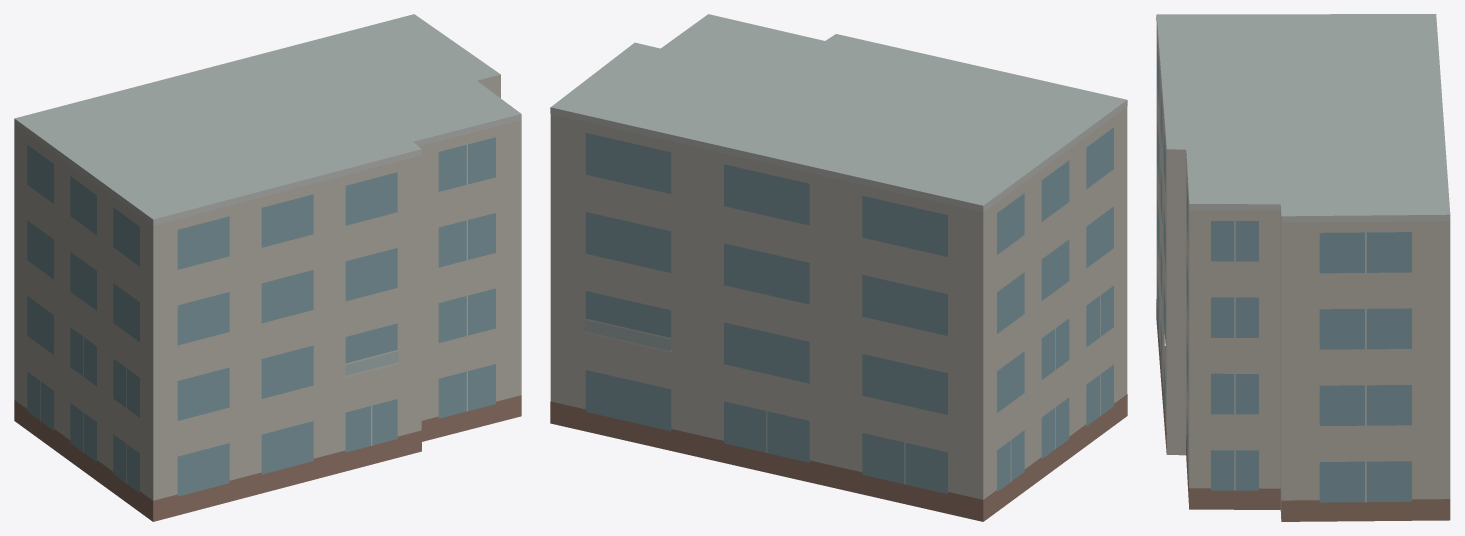
The model's file is survey-upis-32516589.glb.
3 renders of one model, left to right at view 1: azimuth 30°, elevation 25°; view 2: azimuth 150°, elevation 25°; view 3: azimuth 270°, elevation 25°, orthographic. The views are drawn at different scales.
Visible parts, largest first — view 1: survey-upis-32516589.tmp; view 2: survey-upis-32516589.tmp; view 3: survey-upis-32516589.tmp.
Part boxes in pixels (bbox=[...]): survey-upis-32516589.tmp: bbox=[14, 14, 521, 521]; survey-upis-32516589.tmp: bbox=[550, 14, 1127, 521]; survey-upis-32516589.tmp: bbox=[1156, 14, 1450, 521].
Size of the model in its own units: 16.9 by 11.9 by 10.38.
